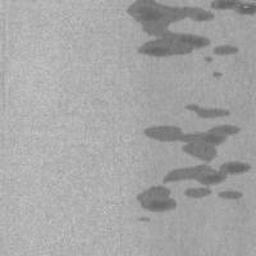Water spot: (134, 101, 253, 223), (124, 0, 256, 65), (211, 70, 225, 79)
